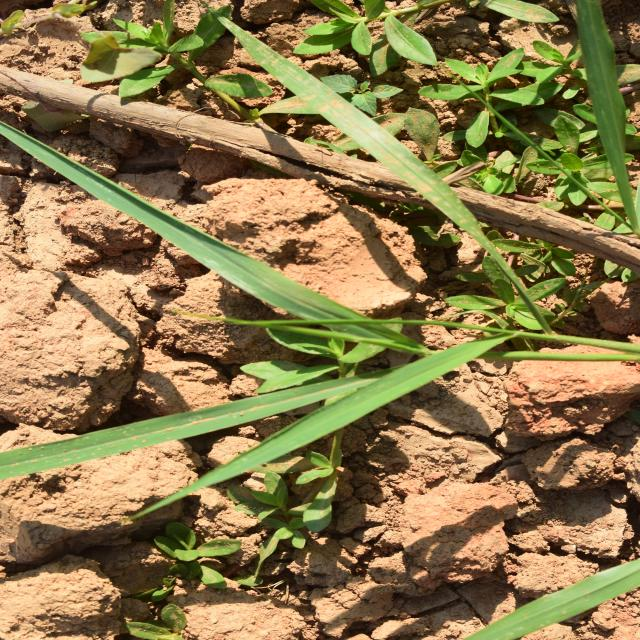green_foxtail: (136, 0, 488, 510)
